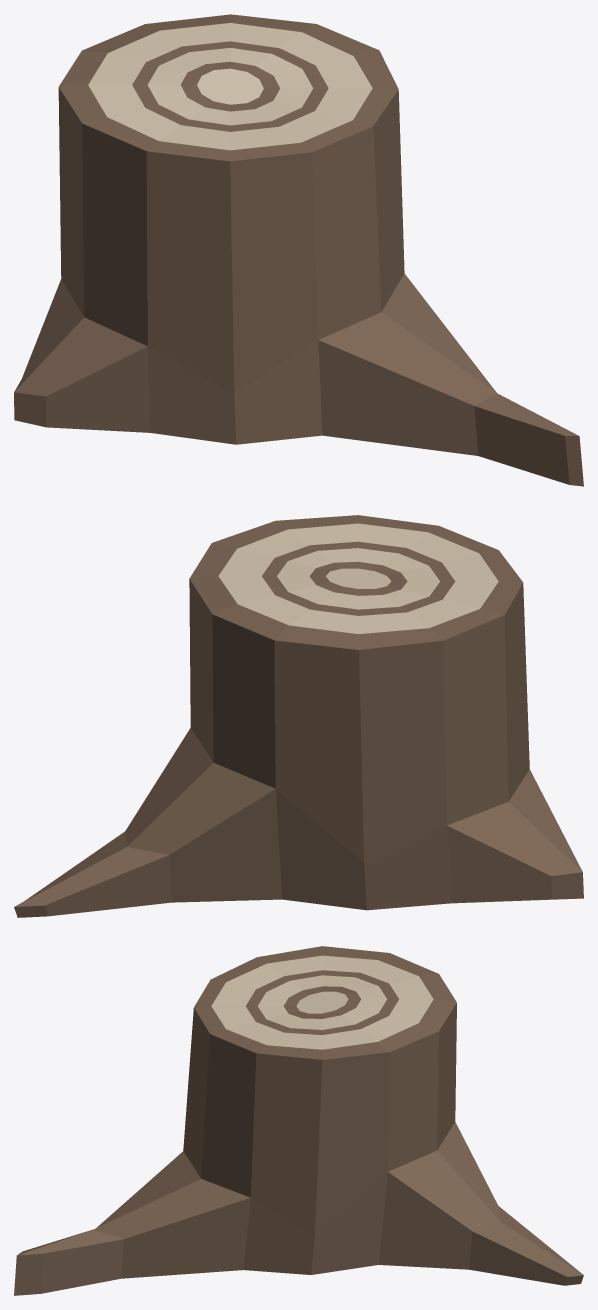
Rendered from Stump.fbx.
The picture shows the model from 3 angles, top to bottom: view 1: azimuth 30°, elevation 25°; view 2: azimuth 150°, elevation 25°; view 3: azimuth 270°, elevation 25°; orthographic projection. The views are drawn at different scales.
Visible parts, largest first — view 1: Stump; view 2: Stump; view 3: Stump.
Part boxes in pixels (bbox=[...]): Stump: bbox=[14, 14, 583, 486]; Stump: bbox=[14, 515, 583, 917]; Stump: bbox=[14, 946, 583, 1295].
Size of the model in its own units: 79.45 by 122 by 55.94.
